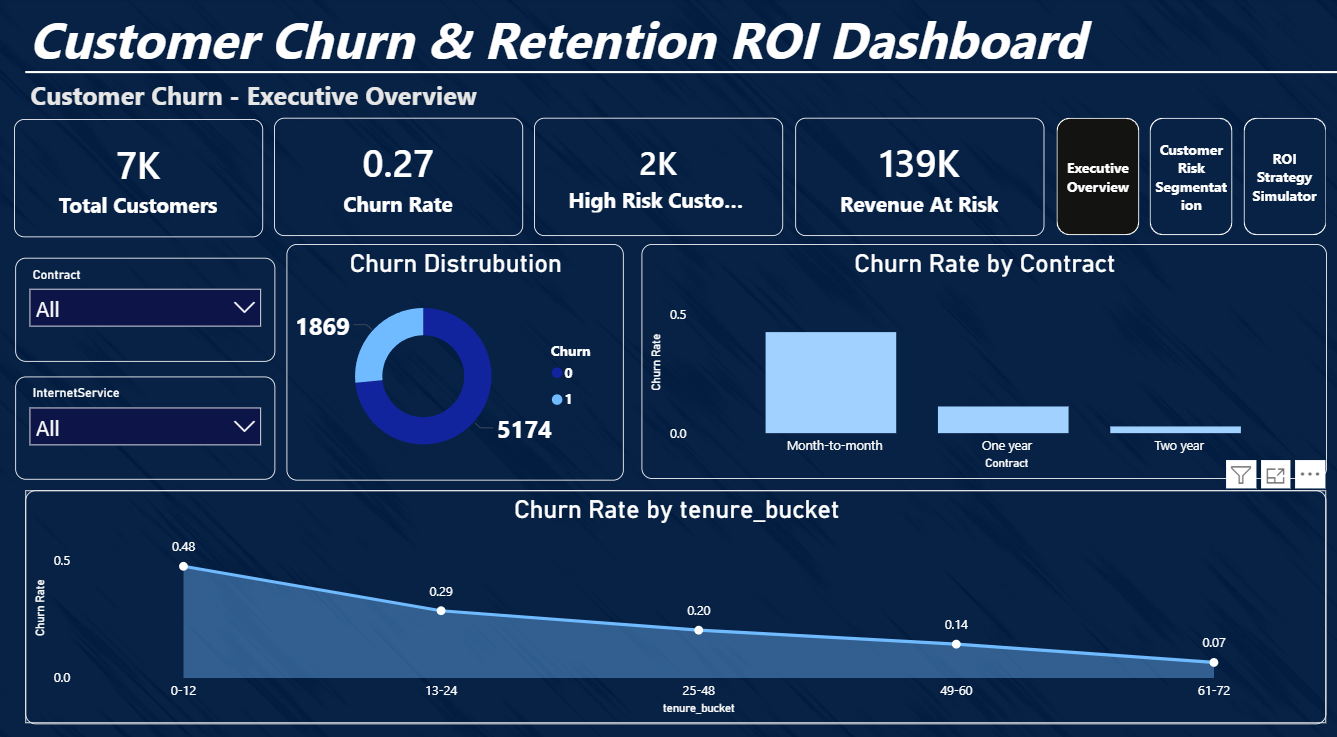

What the dashboard file says about the page in this screenshot:
{"tool":"powerbi","page":{"name":"Executive Overview","canvas":[1280,720],"ordinal":0},"visuals":[{"type":"textbox","box":[11.2,0,1255,75.7],"z":0},{"type":"shape","box":[25.2,37.9,1255,63.1],"z":1000},{"type":"textbox","box":[25.2,70.1,444.5,51.9],"z":2000},{"type":"cardVisual","fields":{"Data":["churn_analysis customers.Total Customers"]},"box":[14.4,113.9,237.3,112.7],"z":3000},{"type":"cardVisual","fields":{"Data":["churn_analysis customers.Churn Rate"]},"box":[262.5,112.7,237.3,112.7],"z":4000},{"type":"cardVisual","fields":{"Data":["churn_analysis customers.High Risk Customers"]},"box":[510.7,112.7,237.3,112.7],"z":5000},{"type":"cardVisual","fields":{"Data":["churn_analysis customers.Revenue At Risk"]},"box":[758.8,112.7,237.3,112.7],"z":6000},{"type":"donutChart","title":"Churn Distrubution","fields":{"Y":["CountNonNull(churn_analysis customers.customerID)"],"Category":["churn_analysis customers.Churn"]},"box":[274.5,233.8,321.3,225.4],"z":7000},{"type":"clusteredColumnChart","fields":{"Category":["churn_analysis customers.Contract"],"Y":["churn_analysis customers.Churn Rate"]},"box":[612.8,234.2,653.5,224.4],"z":8000},{"type":"areaChart","fields":{"Category":["churn_analysis customers.tenure_bucket"],"Y":["churn_analysis customers.Churn Rate"]},"box":[25.2,468.4,1241,223],"z":9000},{"type":"slicer","fields":{"Values":["churn_analysis customers.Contract"]},"box":[15.6,246.9,248.1,99.5],"z":10000},{"type":"slicer","fields":{"Values":["churn_analysis customers.InternetService"]},"box":[15.6,359.6,248.1,98.3],"z":11000},{"type":"pageNavigator","box":[1008.1,112.7,257.7,112.7],"z":12000}]}

Visuals, with their boxes in screenshot pixels (x1, y1, x2, y2), scaled from the page's 1280x720 canvas onto the 1337x737 screenshot:
textbox: [12, 0, 1323, 77]
shape: [26, 39, 1336, 103]
textbox: [26, 72, 491, 125]
cardVisual - churn_analysis customers.Total Customers: [15, 117, 263, 232]
cardVisual - churn_analysis customers.Churn Rate: [274, 115, 522, 231]
cardVisual - churn_analysis customers.High Risk Customers: [533, 115, 781, 231]
cardVisual - churn_analysis customers.Revenue At Risk: [793, 115, 1040, 231]
"Churn Distrubution" donutChart: [287, 239, 622, 470]
clusteredColumnChart - churn_analysis customers.Contract x churn_analysis customers.Churn Rate: [640, 240, 1323, 469]
areaChart - churn_analysis customers.tenure_bucket x churn_analysis customers.Churn Rate: [26, 479, 1323, 708]
slicer - churn_analysis customers.Contract: [16, 253, 275, 355]
slicer - churn_analysis customers.InternetService: [16, 368, 275, 469]
pageNavigator: [1053, 115, 1322, 231]
